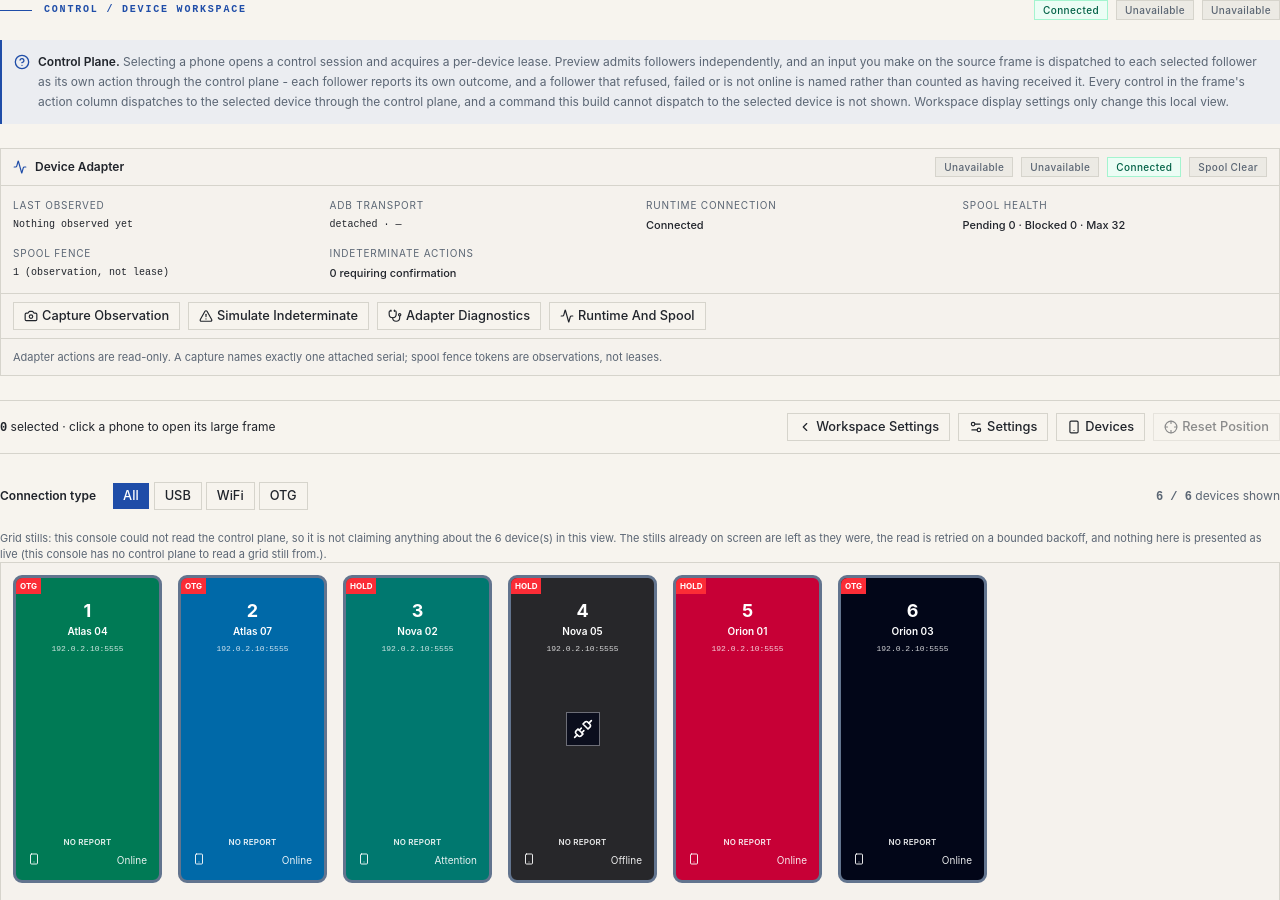
Test case: ControlPage OTG Setup tab › reports a fleet activation per serial rather than as one verdict
The image size is (1280, 900).
Click the button with aria-label "Open Workspace Settings". click: [869, 427]
box: [787, 413, 950, 441]
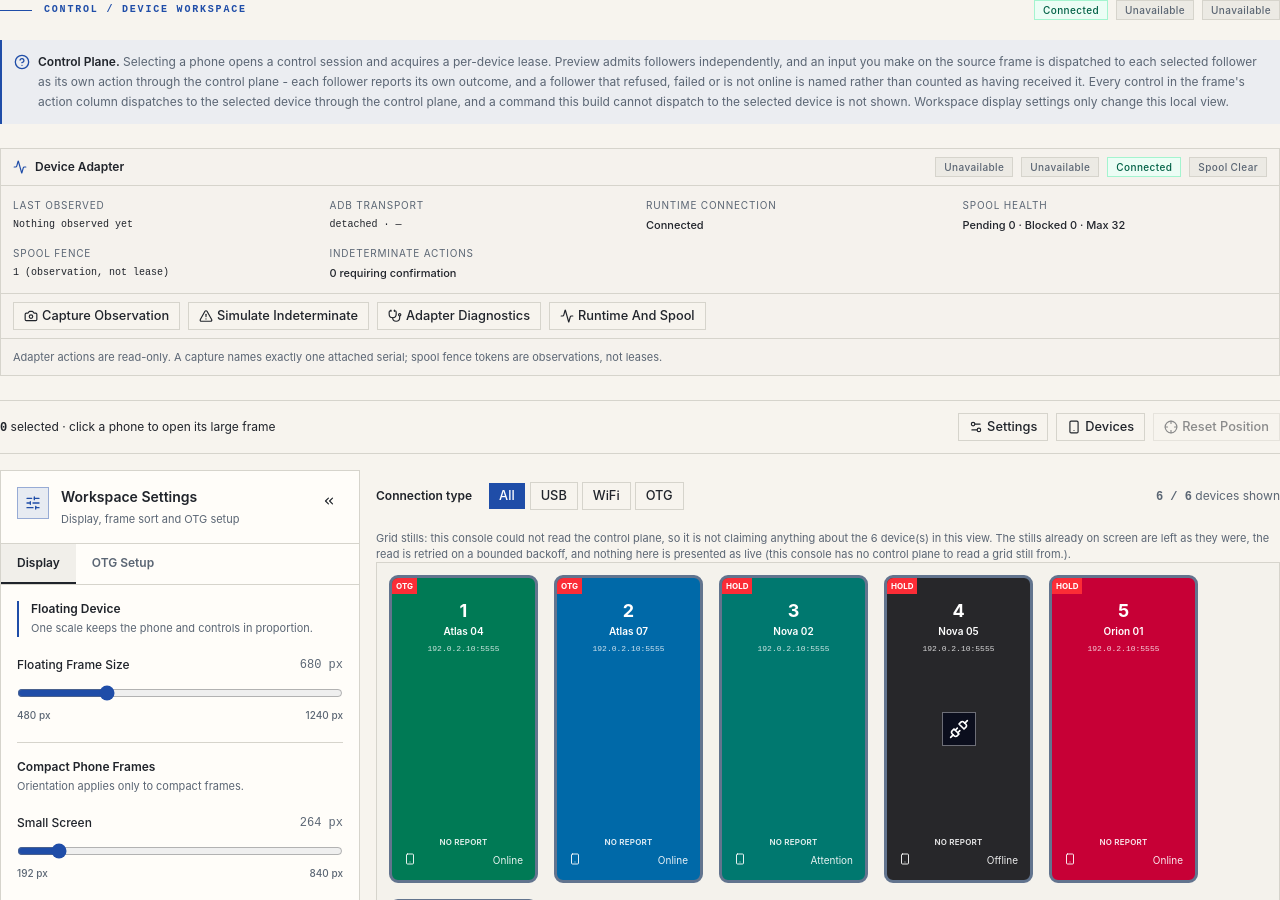
Click the tab "OTG Setup". click: [123, 564]
box: [76, 544, 170, 584]
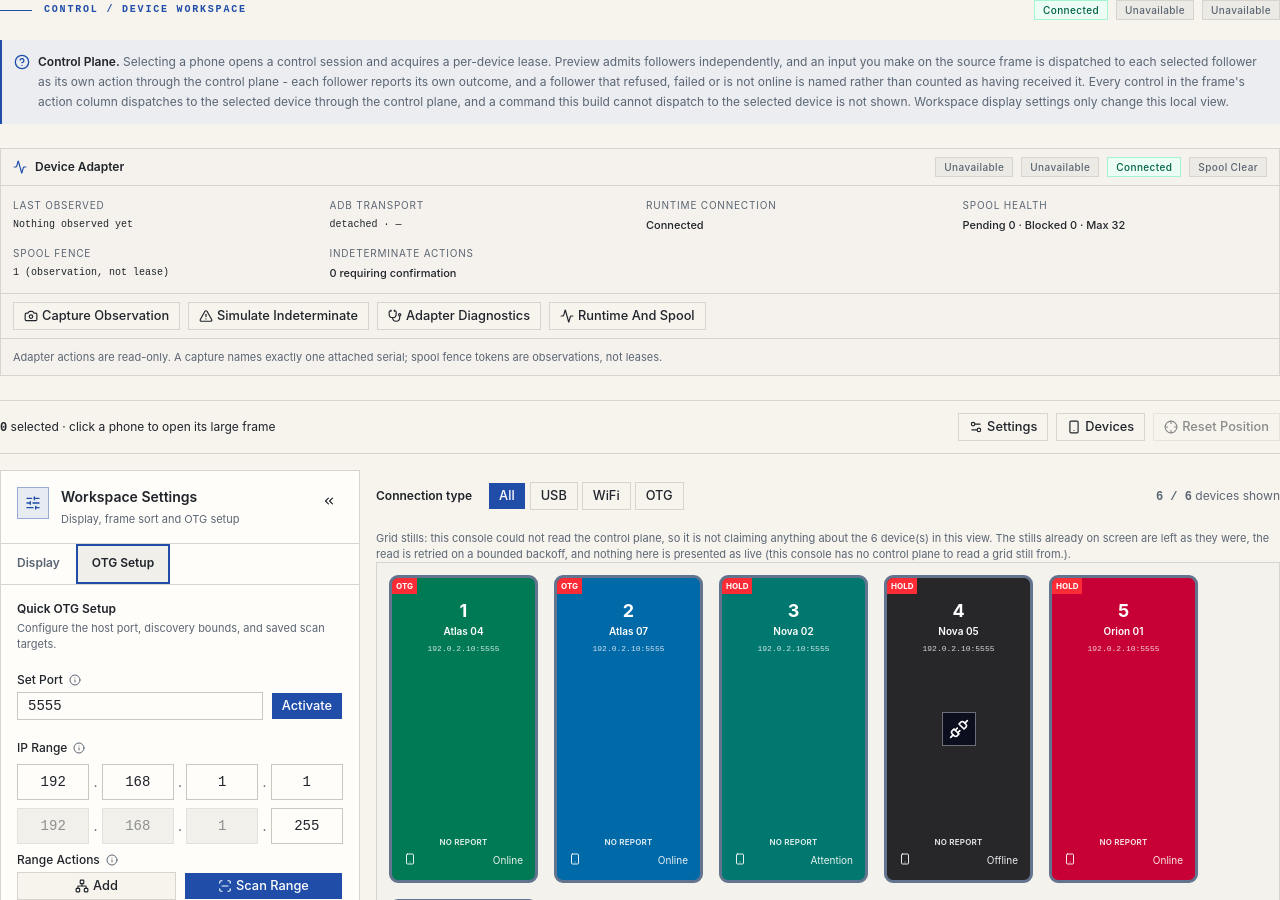
Click the button "Activate". click: [307, 706]
box: [271, 692, 343, 720]
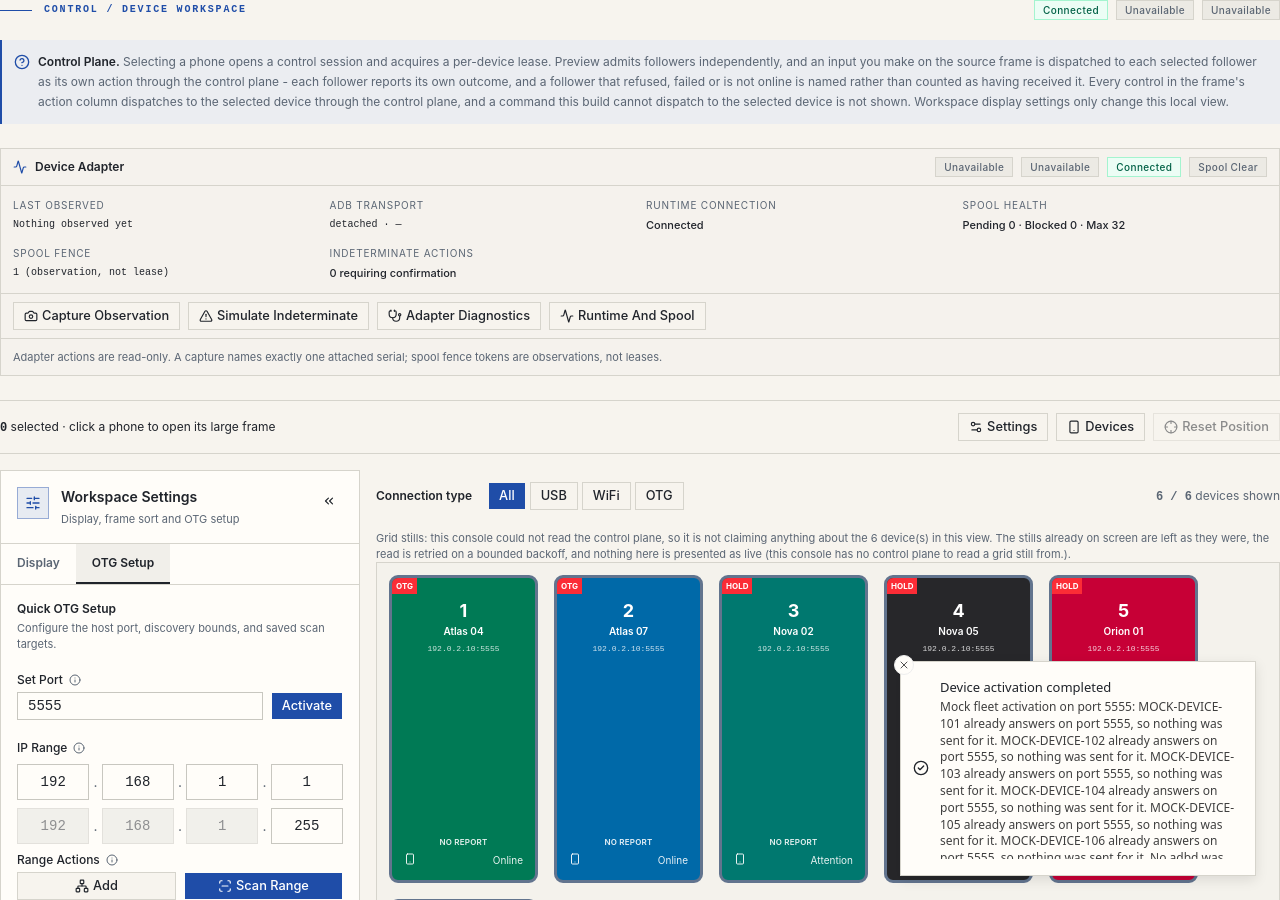
Now the text "Mock fleet activation" shows "MOCK-DEVICE-101", box [940, 698, 1234, 883]
Now the text "Mock fleet activation" shows "MOCK-DEVICE-103", box [940, 698, 1234, 883]
Now the text "Mock fleet activation" shows "MOCK-DEVICE-104", box [940, 698, 1234, 883]
